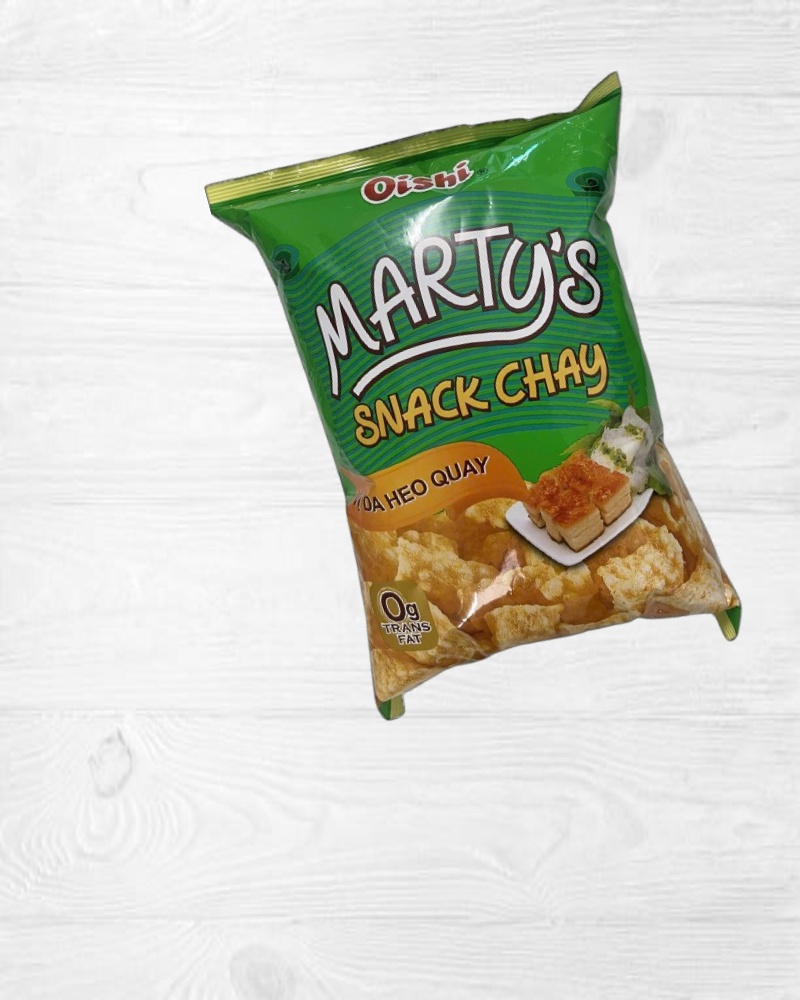Snack chay: (204, 71, 768, 742)
